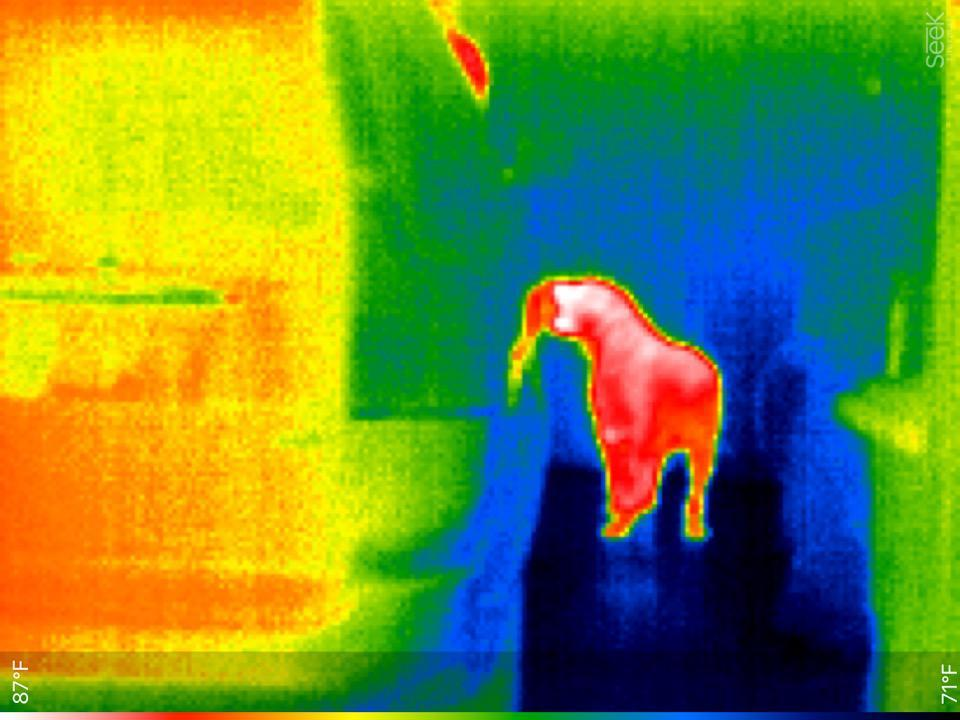dog: (538, 267, 725, 548)
